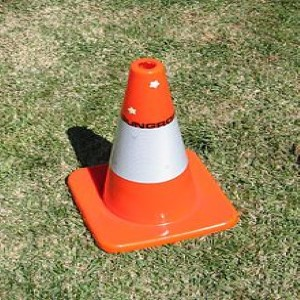traffic cone: (67, 59, 237, 253)
